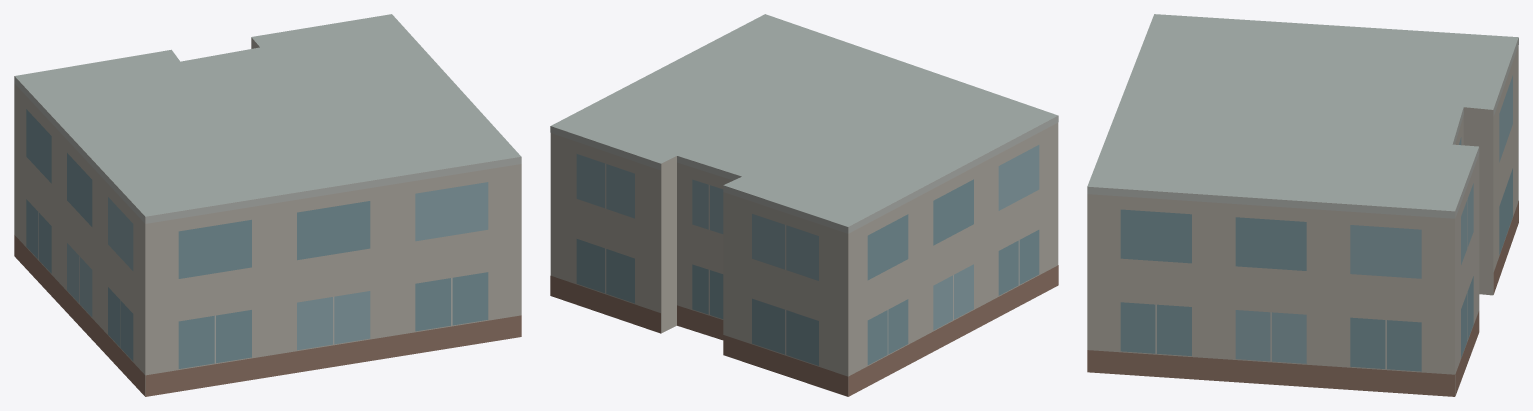
Rendered from survey-upis-32659641.glb.
3 renders of one model, left to right at view 1: azimuth 30°, elevation 25°; view 2: azimuth 150°, elevation 25°; view 3: azimuth 270°, elevation 25°, orthographic. The views are drawn at different scales.
Parts seen in each view (by area): view 1: survey-upis-32659641.tmp; view 2: survey-upis-32659641.tmp; view 3: survey-upis-32659641.tmp.
Part boxes in pixels (<box>): survey-upis-32659641.tmp: <box>14,14,521,396</box>; survey-upis-32659641.tmp: <box>550,14,1058,396</box>; survey-upis-32659641.tmp: <box>1087,14,1518,396</box>.
Size of the model in its own units: 13.93 by 6.1 by 12.87.
